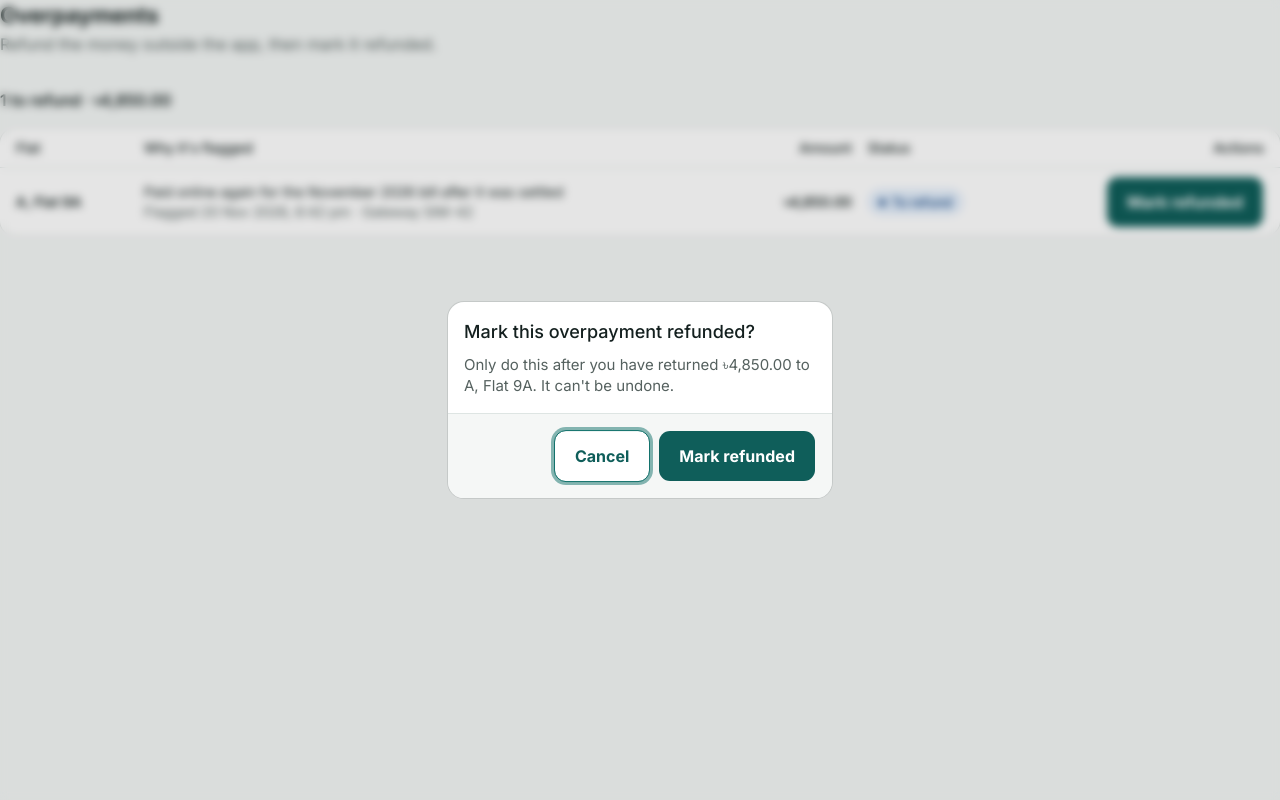
it: ManagerOverpayments › changes nothing when the manager cancels (boundary)
Earlier steps of the test are not shown.
Click the button "Cancel" at (602, 456), box [554, 430, 650, 482]
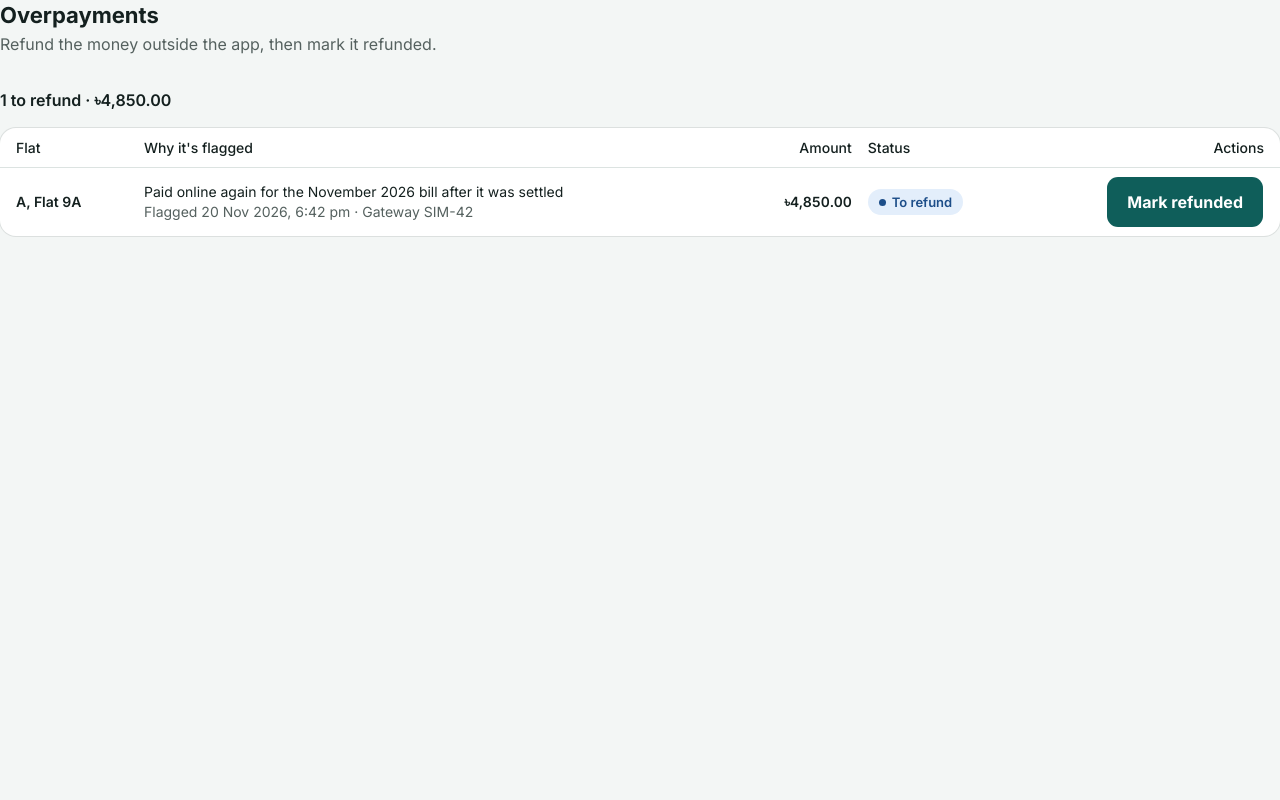
Expected: the dialog is gone
